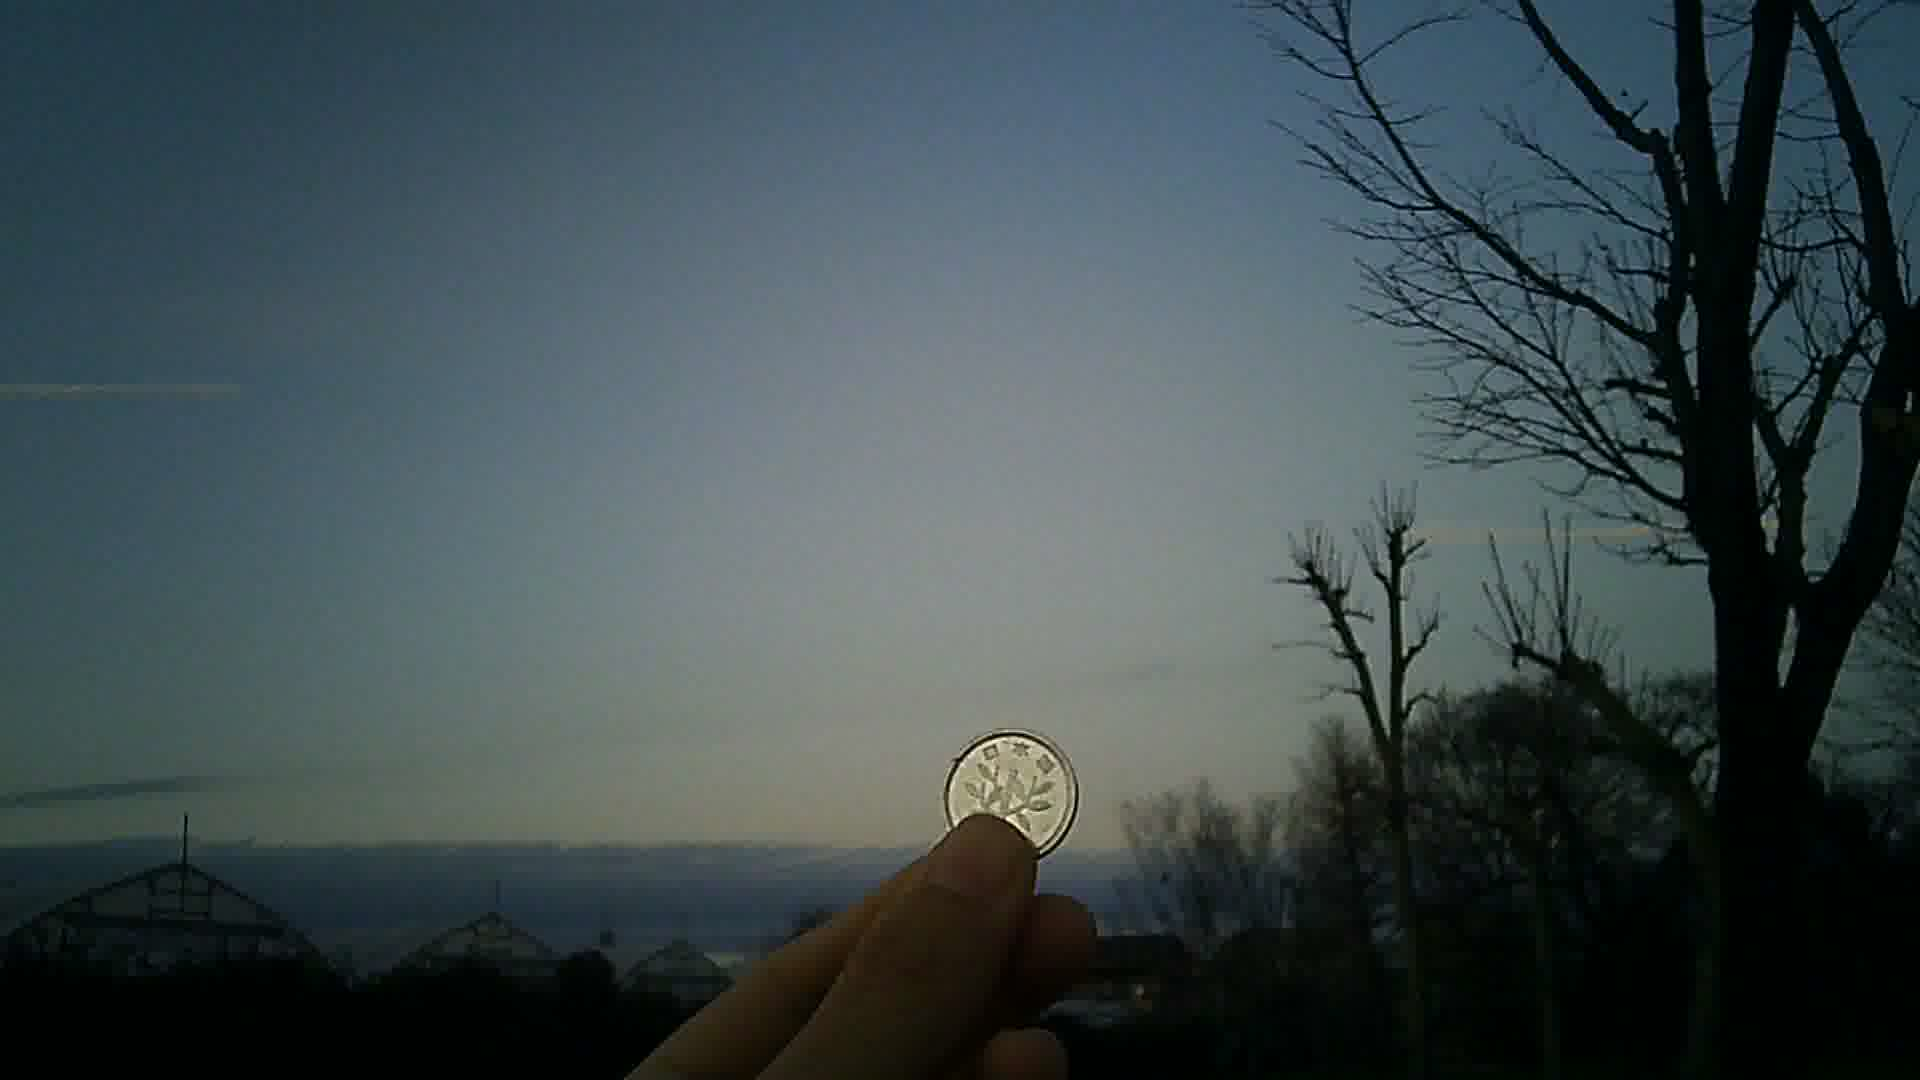1 Yen: (939, 724, 1073, 855)
